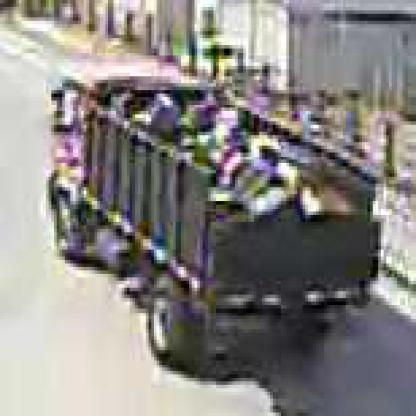truck: (50, 74, 385, 382)
